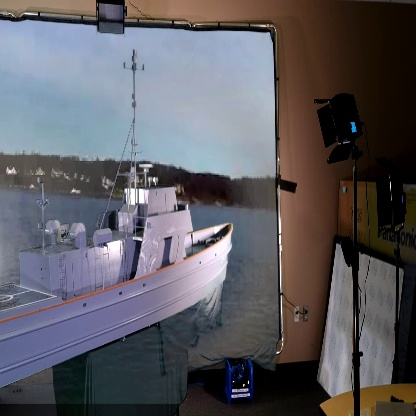YP689: (0, 65, 234, 390)
